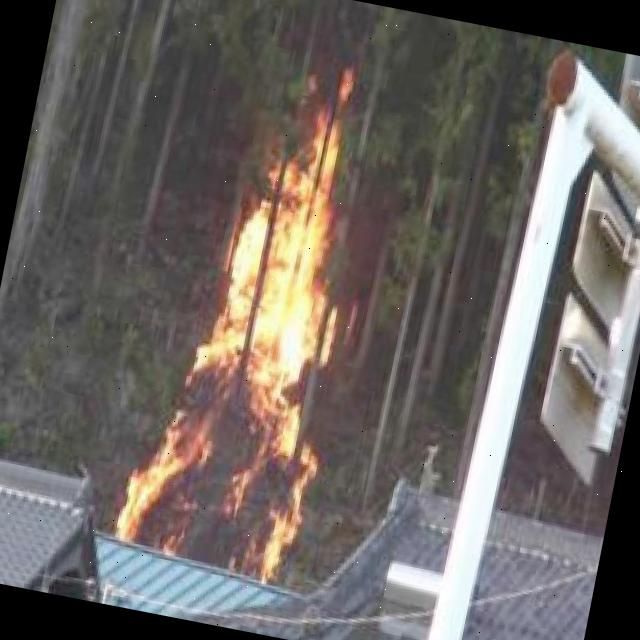fire: (110, 62, 390, 589)
